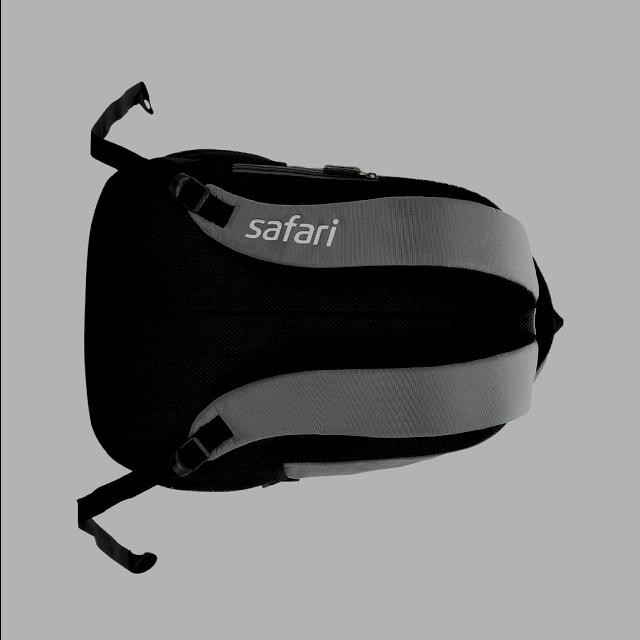backpack: (79, 83, 565, 574)
